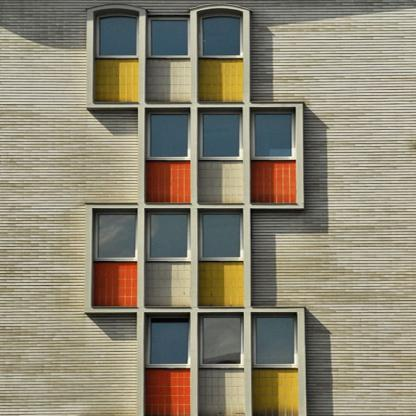Building Outline: (0, 0, 416, 416)
Facade: (0, 0, 416, 416)
Floor: (0, 312, 416, 416), (0, 0, 416, 102), (0, 209, 416, 308), (0, 108, 416, 203)
Floor Slab: (0, 103, 416, 108), (0, 204, 416, 209), (0, 308, 416, 313)
Window: (257, 317, 294, 364), (203, 317, 240, 364), (151, 318, 188, 361), (98, 214, 135, 257), (150, 214, 187, 257), (203, 214, 240, 257), (151, 114, 188, 156), (256, 114, 293, 156), (203, 114, 240, 156), (202, 16, 239, 56), (99, 16, 136, 56), (151, 20, 188, 55)
Window Hole: (197, 313, 245, 369), (251, 313, 298, 368), (144, 313, 191, 368), (92, 209, 138, 261), (144, 209, 190, 261), (250, 108, 296, 160), (197, 8, 243, 59), (93, 8, 139, 59), (145, 108, 190, 160), (198, 209, 243, 261), (198, 108, 243, 160), (146, 16, 191, 58)
Window Outline: (137, 307, 305, 416), (85, 204, 251, 313), (138, 103, 304, 209), (87, 3, 250, 102)
